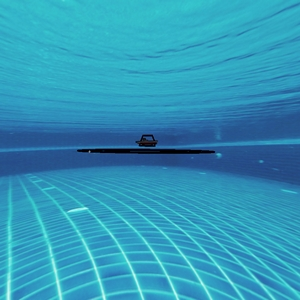circle: (64, 116, 231, 172)
submarine: (137, 136, 151, 145)
